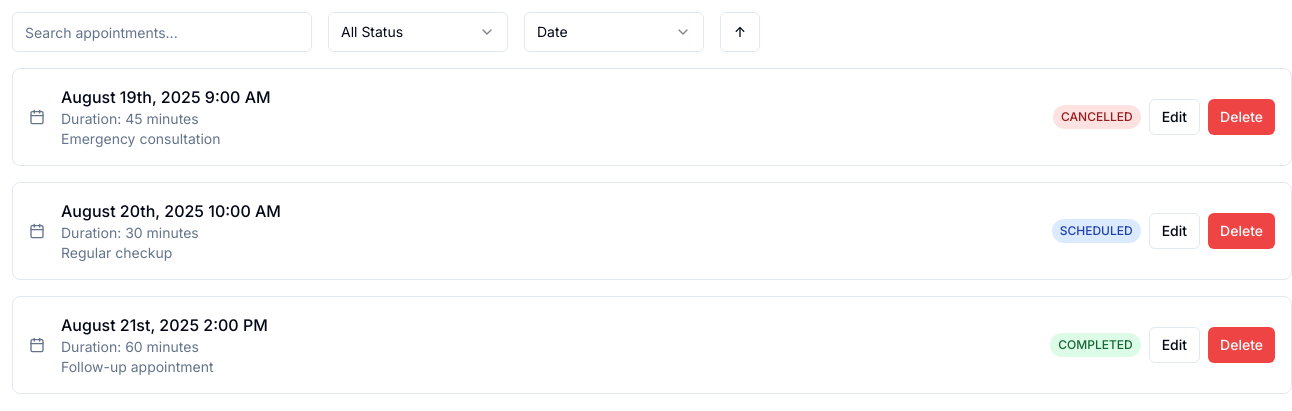
Scenario: AppointmentList › filters appointments by search query
Type "checkup" into the search field with placeholder "Search appointments..." at {"x": 162, "y": 32}, box [12,12,312,52]
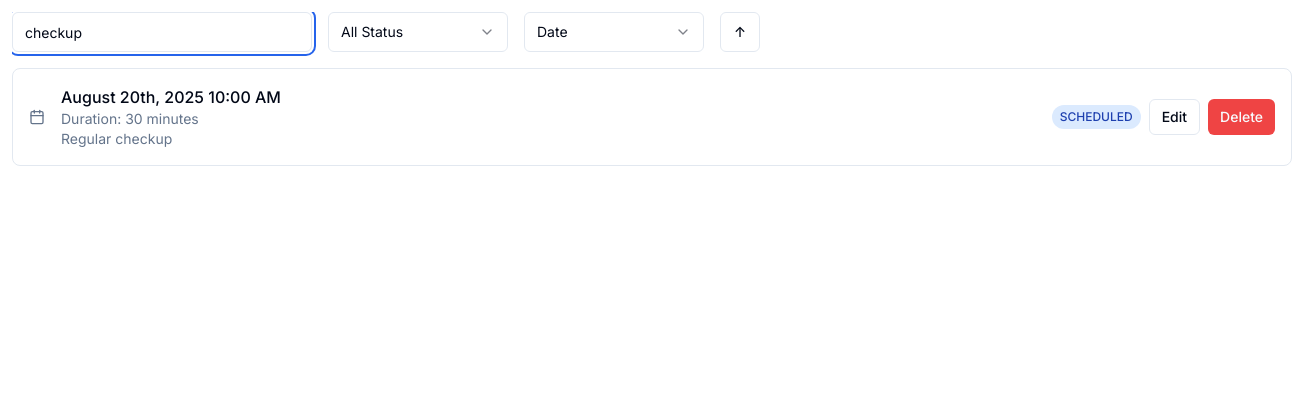
Expected: the text "Regular checkup" is shown, [61,130,172,147]
Expected: the text "Follow-up appointment" is gone
Expected: the text "Emergency consultation" is gone
